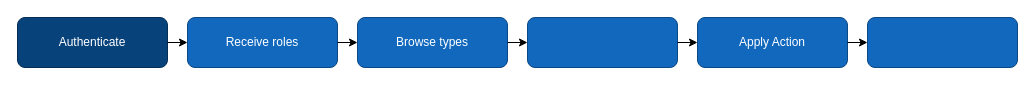
The diagram is 1035 pixels wide and 85 high, and some of its shapes have lost their labels. Each missing label, with the centre of its shape:
"Explore links" goes at point 602,42.
"View lineage" goes at point 942,42.
